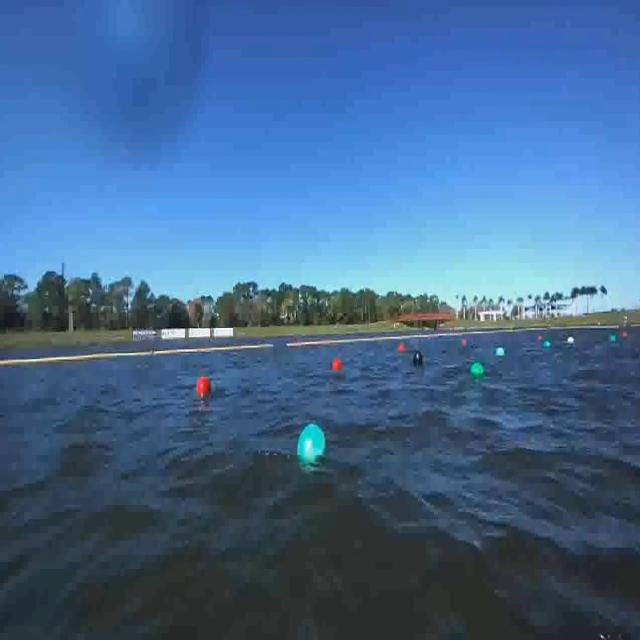black-buoy: (412, 351, 424, 367)
green-buoy: (298, 425, 327, 463), (469, 360, 483, 378)
red-buoy: (199, 374, 213, 393), (333, 358, 344, 371), (397, 345, 405, 354)
